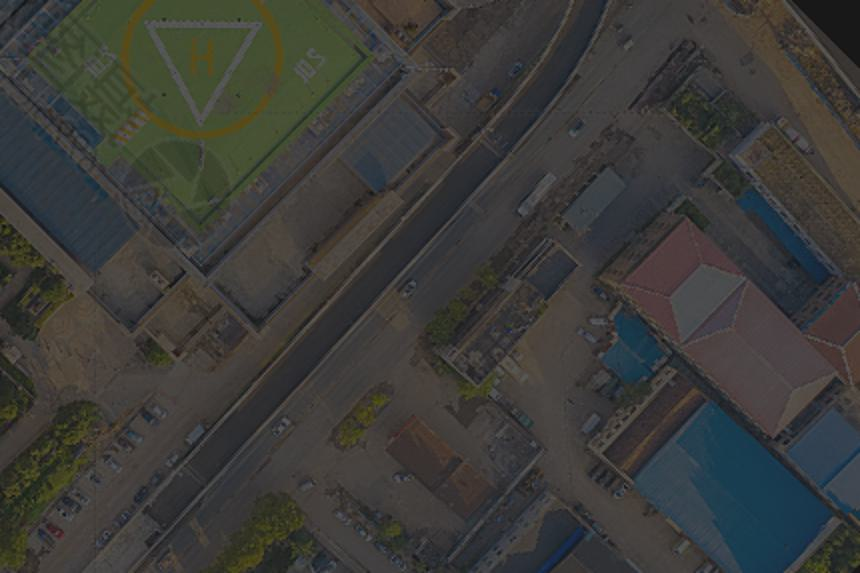Apron: (112, 1, 297, 146)
